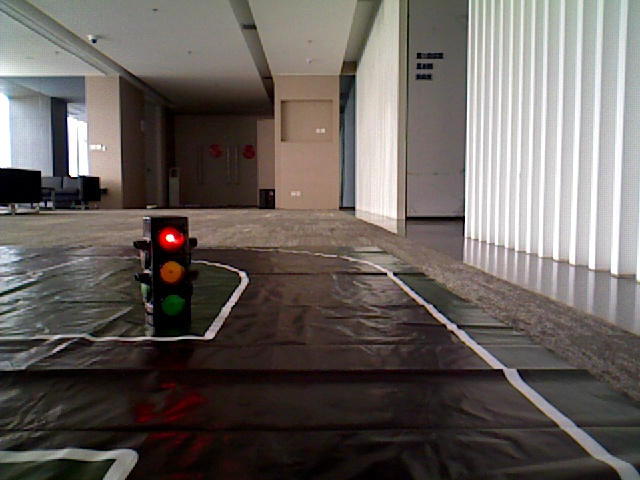red: (149, 218, 190, 321)
